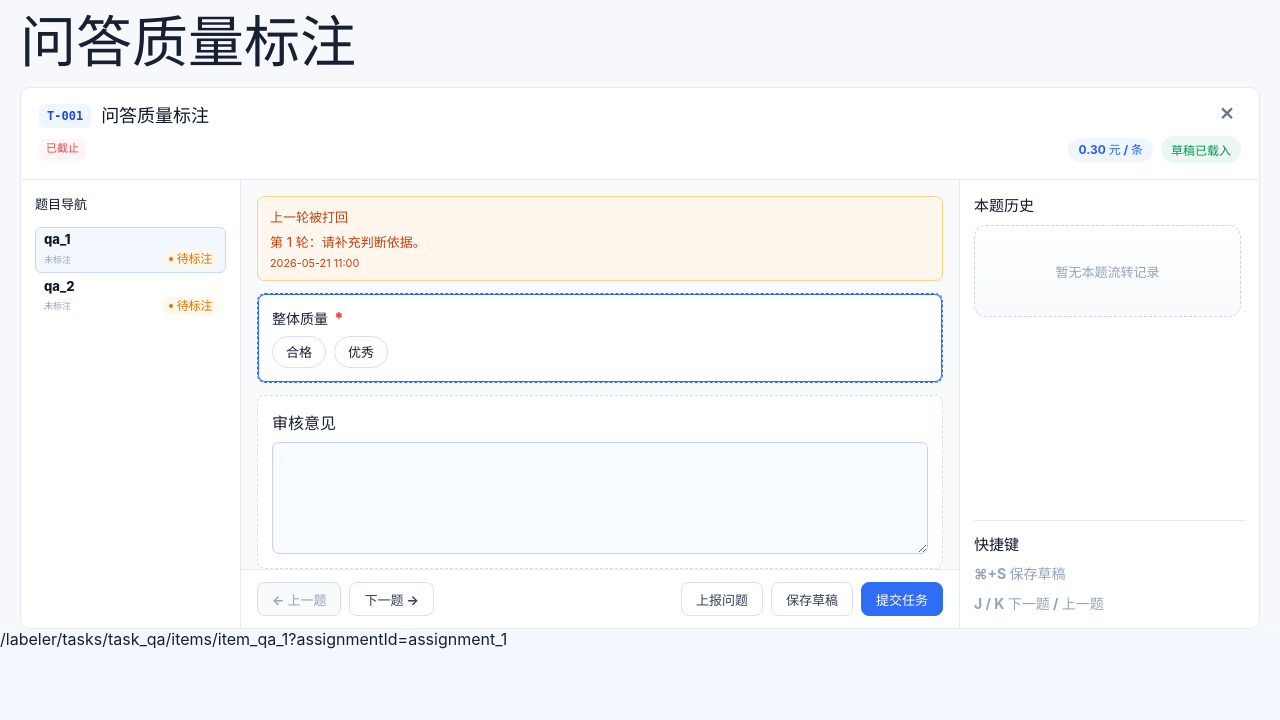
Test: WorkbenchPage › Labeler 上报题目后锁定当前题并允许继续处理其他题
Expected: the heading "问答质量标注" is shown, x1=20 y1=8 x2=356 y2=76
Click the button "上报问题" at [722, 599], box x1=681 y1=582 x2=763 y2=616
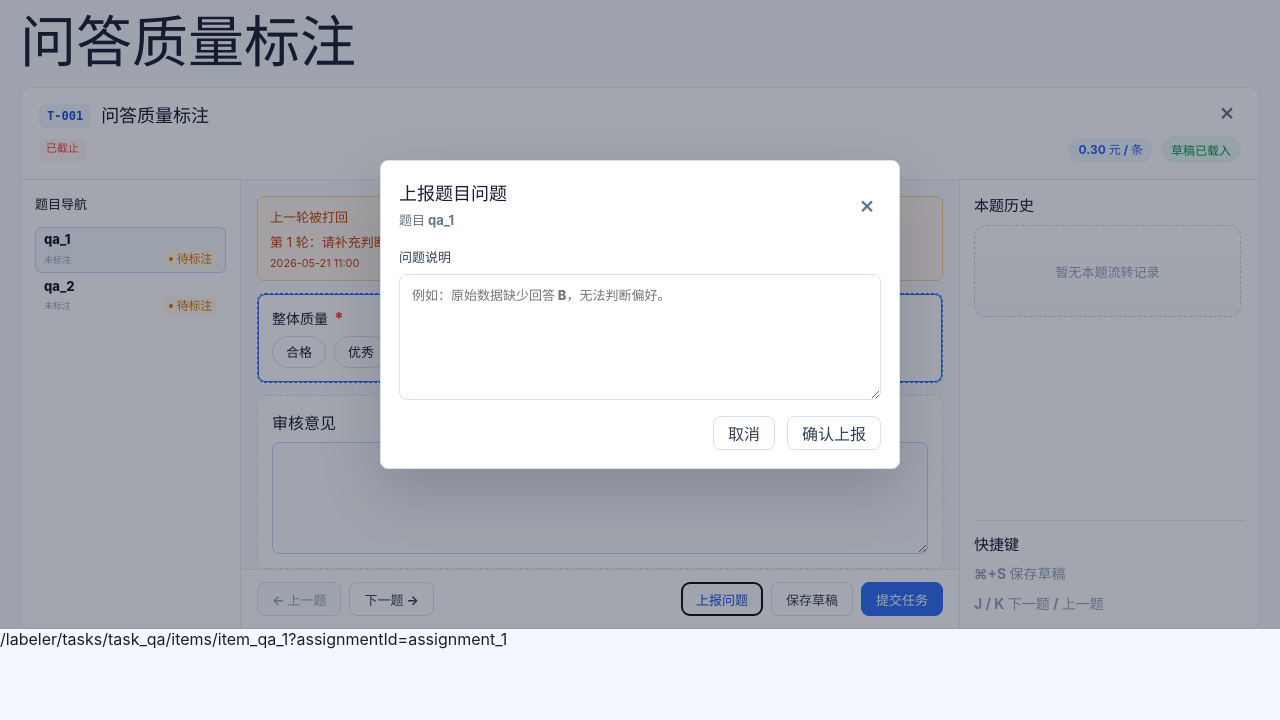
Type "原始数据缺少回答 B，无法判断偏好。" into the text box labelled "问题说明" at [640, 337], box x1=399 y1=274 x2=881 y2=400
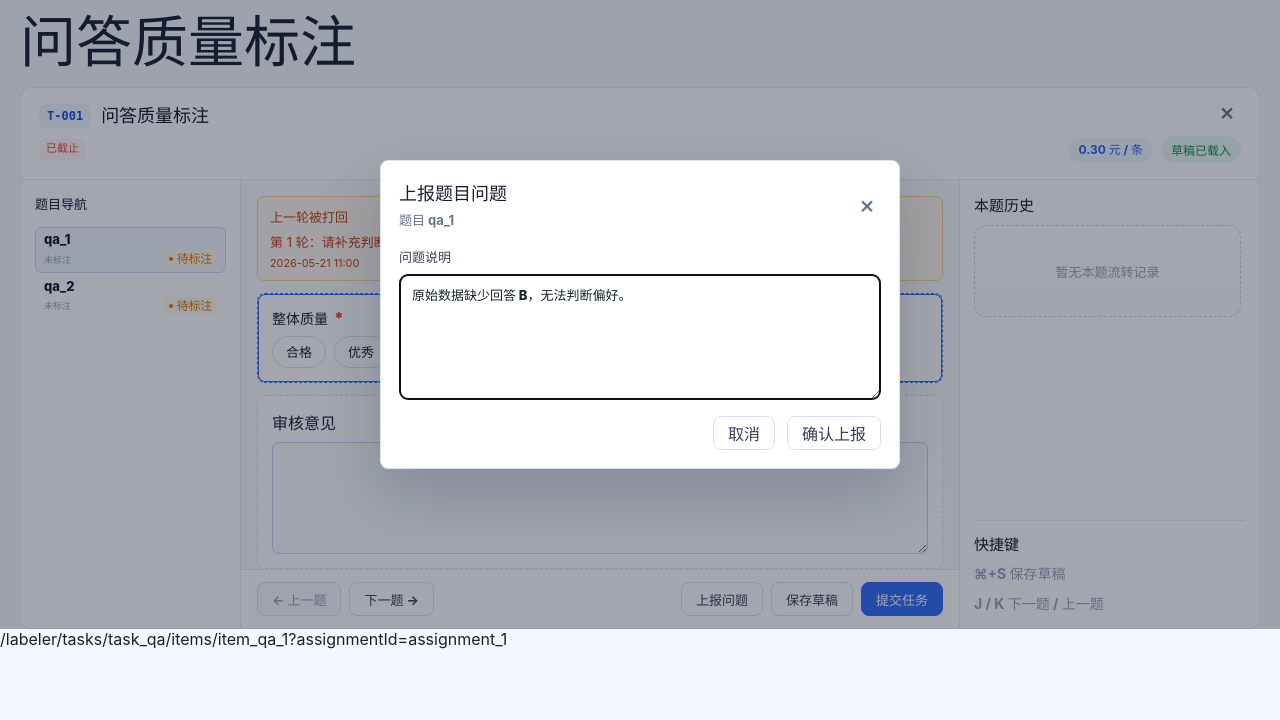
Click the button "确认上报" at [834, 433], box x1=787 y1=416 x2=881 y2=450
(page scrolled)
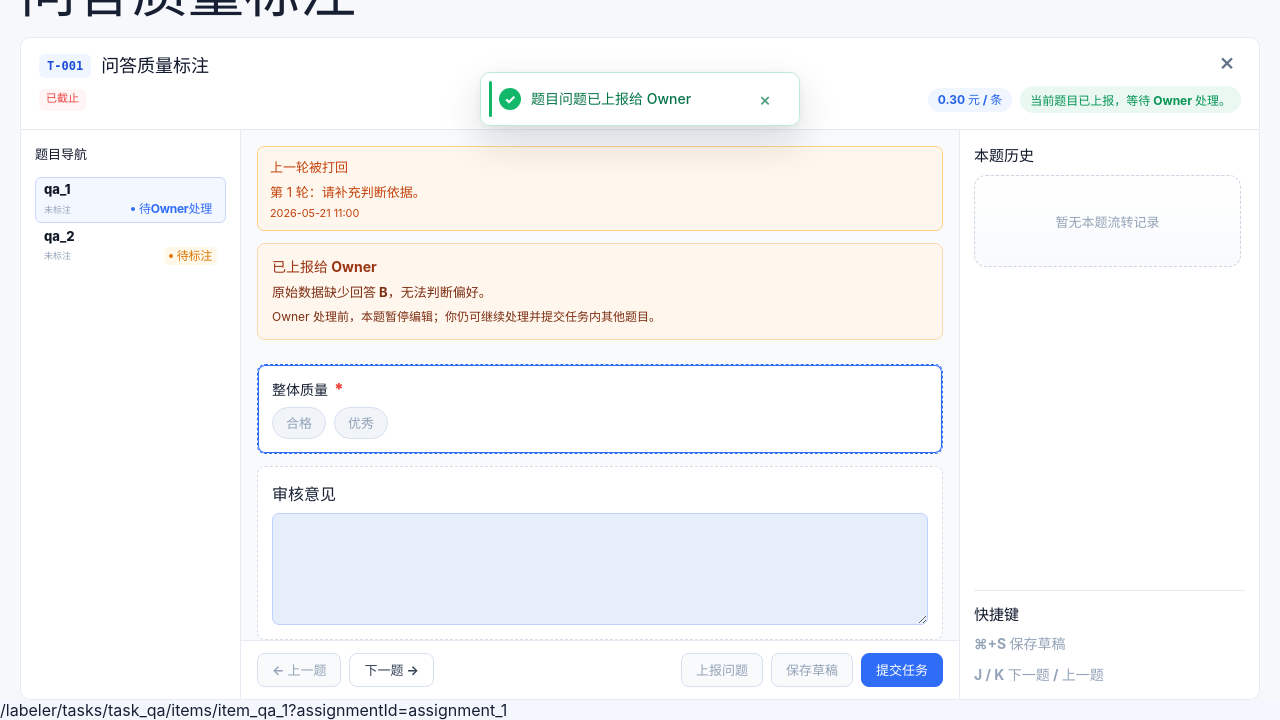
Expected: the text "题目问题已上报给 Owner" is shown, x1=531 y1=90 x2=691 y2=107
Expected: the element named "题目上报状态" shows "原始数据缺少回答 B，无法判断偏好。", x1=272 y1=284 x2=492 y2=300
Expected: the button "上报问题" is disabled, x1=681 y1=653 x2=763 y2=687
Click the button "下一题 →" at [392, 670], box x1=350 y1=653 x2=434 y2=687
(page scrolled)
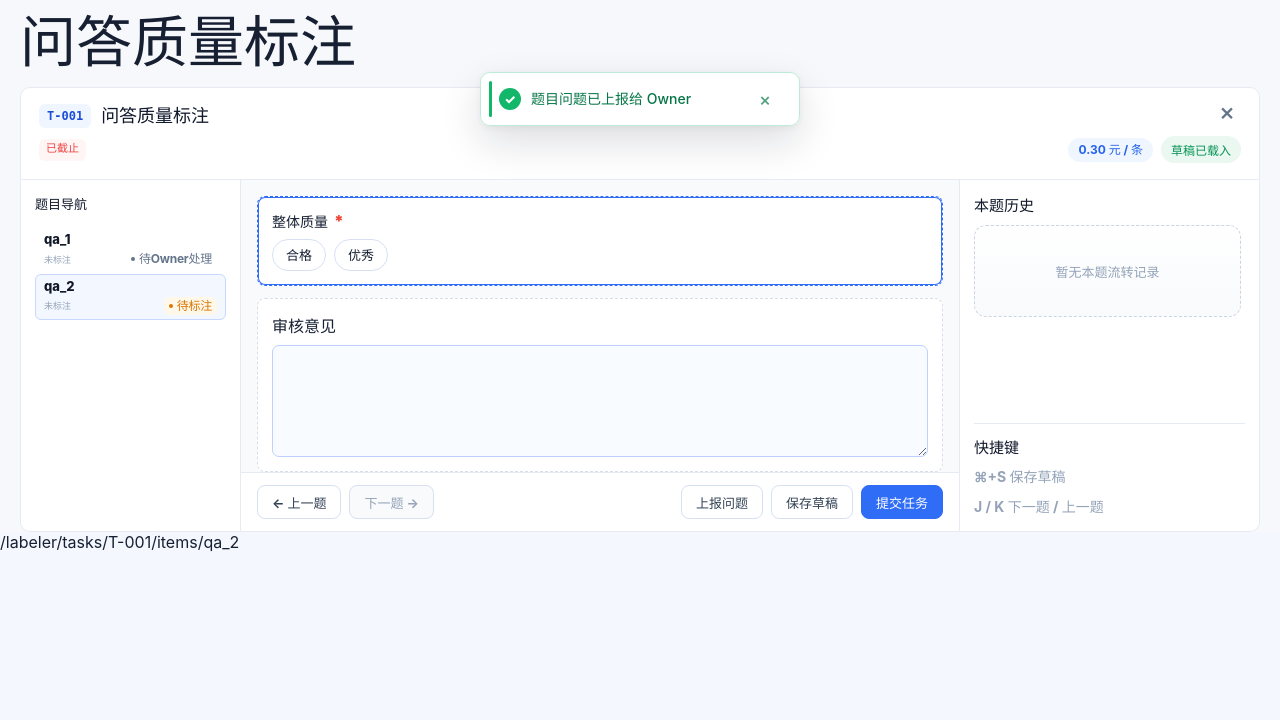
Expected: the text with test id "location-path" reads "/labeler/tasks/T-001/items/qa_2", x1=0 y1=532 x2=239 y2=552
Expected: the button "保存草稿" is enabled, x1=771 y1=485 x2=853 y2=519
